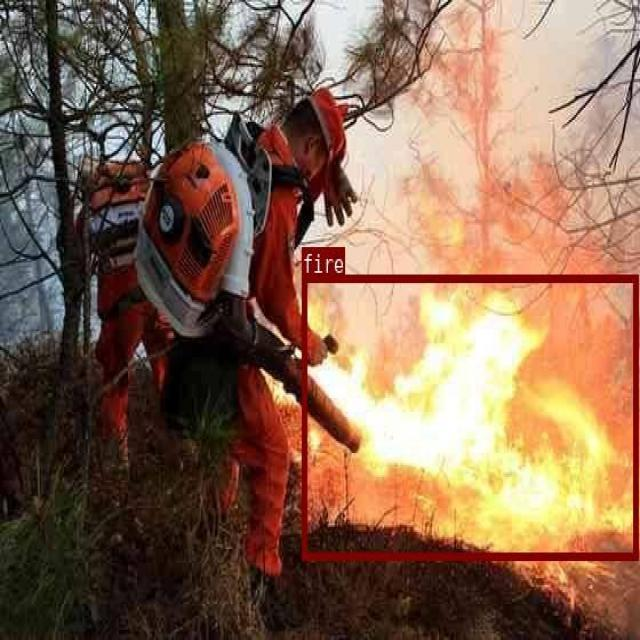fire: (301, 274, 637, 558)
